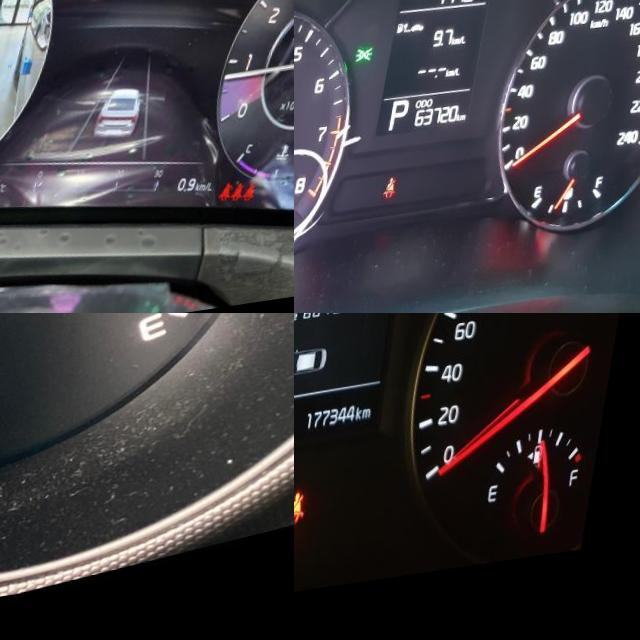SideLamp: (364, 54, 384, 72)
